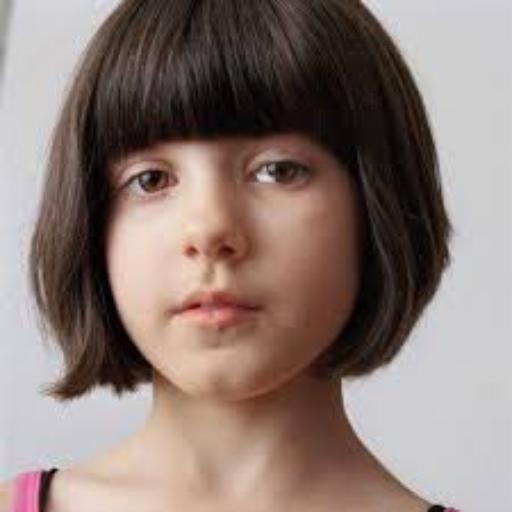left_eye: (248, 159, 317, 190)
left_lip_corner: (244, 298, 276, 321)
right_eye: (122, 168, 180, 200)
right_lip_corner: (162, 303, 187, 326)
